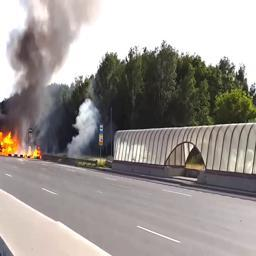fire: (0, 129, 41, 159)
